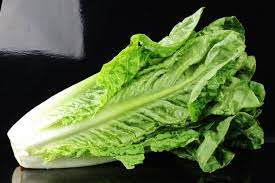lettuce: (11, 18, 255, 162)
